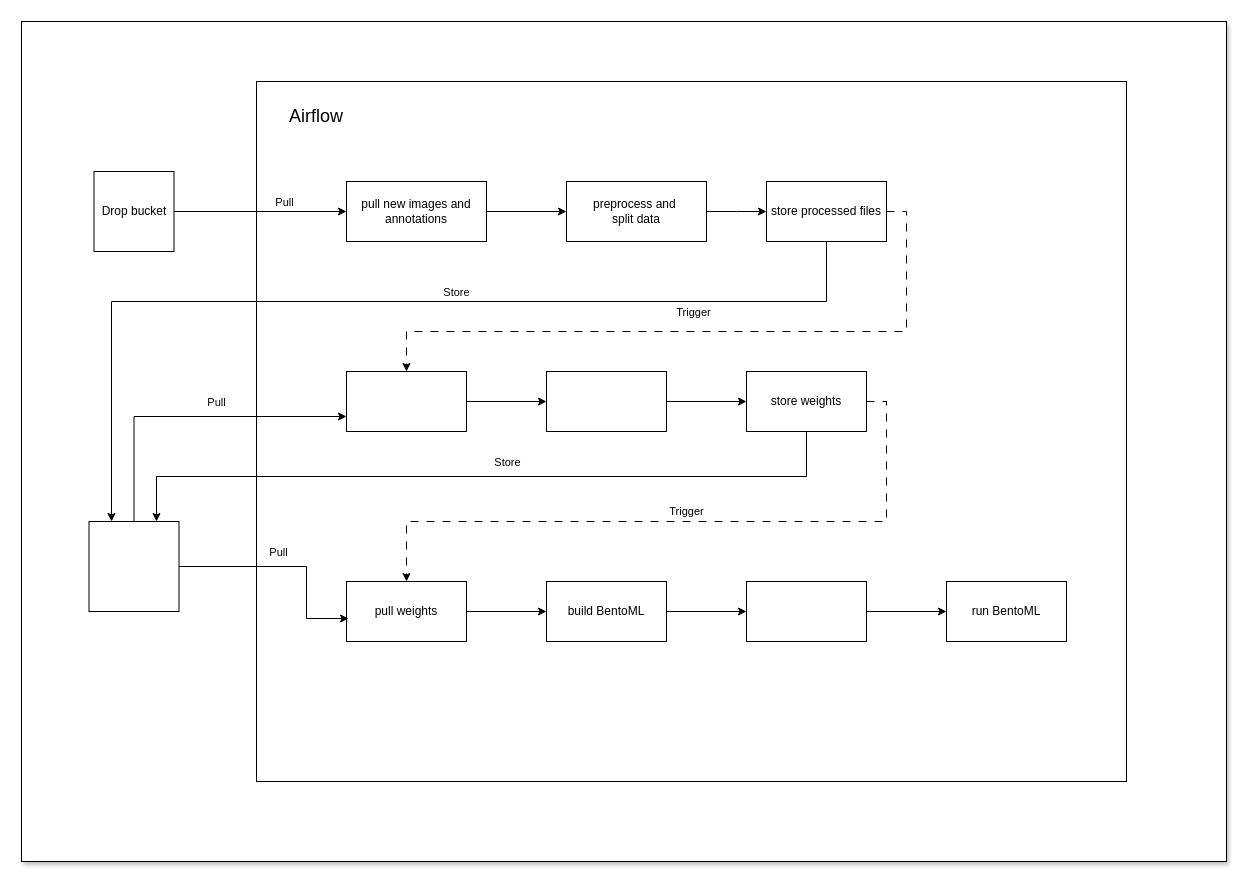
This 1250x886 diagram has some shape labels left out. The shapes that lost their labels are listed below. From the top down, each one's centre as x and y in pixels, then its label:
(x=406, y=401): Pull new data
(x=606, y=401): train
(x=133, y=566): Processed data bucket
(x=806, y=611): containerize latest BentoML
